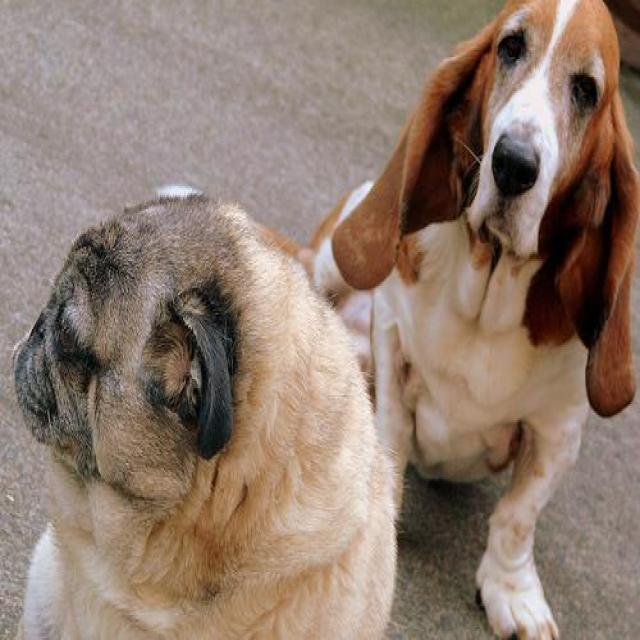basset: (310, 0, 636, 638)
